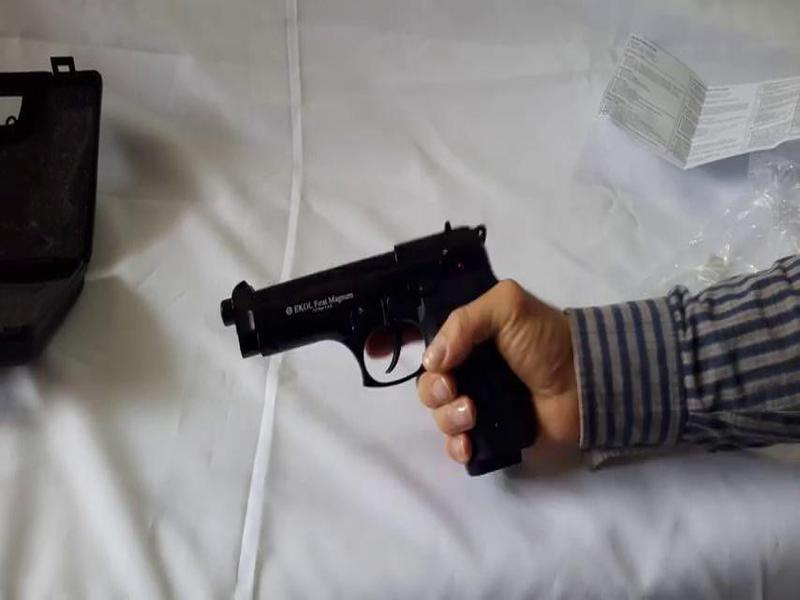Pistola: (214, 210, 577, 484)
